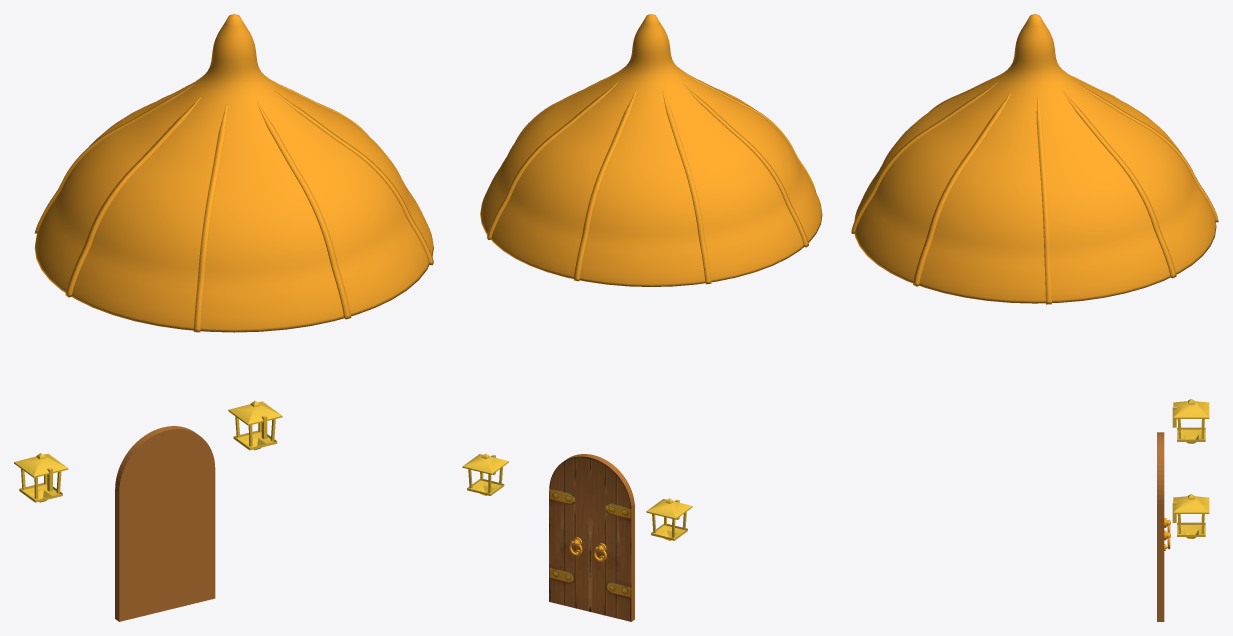
The model's file is HaloDomeHouse_06_deco.glb.
3 renders of one model, left to right at view 1: azimuth 30°, elevation 25°; view 2: azimuth 150°, elevation 25°; view 3: azimuth 270°, elevation 25°, orthographic. The views are drawn at different scales.
Visible parts, largest first — view 1: HaloDomeHouse_06_Dome, HaloDomeHouse_06_Leaf0, HaloDomeHouse_06_Leaf1, HaloDomeHouse_06_DomeRibs, HaloDomeHouse_06_Lantern1, HaloDomeHouse_06_Lantern0; view 2: HaloDomeHouse_06_Dome, HaloDomeHouse_06_Leaf0, HaloDomeHouse_06_Leaf1, HaloDomeHouse_06_DomeRibs, HaloDomeHouse_06_Lantern1, HaloDomeHouse_06_Lantern0; view 3: HaloDomeHouse_06_Dome, HaloDomeHouse_06_DomeRibs, HaloDomeHouse_06_Leaf1, HaloDomeHouse_06_Lantern0, HaloDomeHouse_06_Lantern1.
Boxes of the visible parts, <box> form: HaloDomeHouse_06_Dome: <box>34,14,433,332</box>; HaloDomeHouse_06_Leaf0: <box>115,427,167,621</box>; HaloDomeHouse_06_Leaf1: <box>163,426,215,609</box>; HaloDomeHouse_06_DomeRibs: <box>34,79,433,332</box>; HaloDomeHouse_06_Lantern1: <box>228,400,282,450</box>; HaloDomeHouse_06_Lantern0: <box>14,453,68,502</box>; HaloDomeHouse_06_Dome: <box>480,14,822,286</box>; HaloDomeHouse_06_Leaf0: <box>590,455,634,621</box>; HaloDomeHouse_06_Leaf1: <box>549,454,593,611</box>; HaloDomeHouse_06_DomeRibs: <box>486,71,815,284</box>; HaloDomeHouse_06_Lantern1: <box>462,453,508,495</box>; HaloDomeHouse_06_Lantern0: <box>646,498,692,540</box>; HaloDomeHouse_06_Dome: <box>854,14,1216,303</box>; HaloDomeHouse_06_DomeRibs: <box>851,73,1218,304</box>; HaloDomeHouse_06_Leaf1: <box>1157,437,1164,621</box>; HaloDomeHouse_06_Lantern0: <box>1172,399,1209,443</box>; HaloDomeHouse_06_Lantern1: <box>1172,494,1209,538</box>.
Size of the model in its own units: 15.69 by 27.62 by 15.69.
4 materials, 1 textured.
